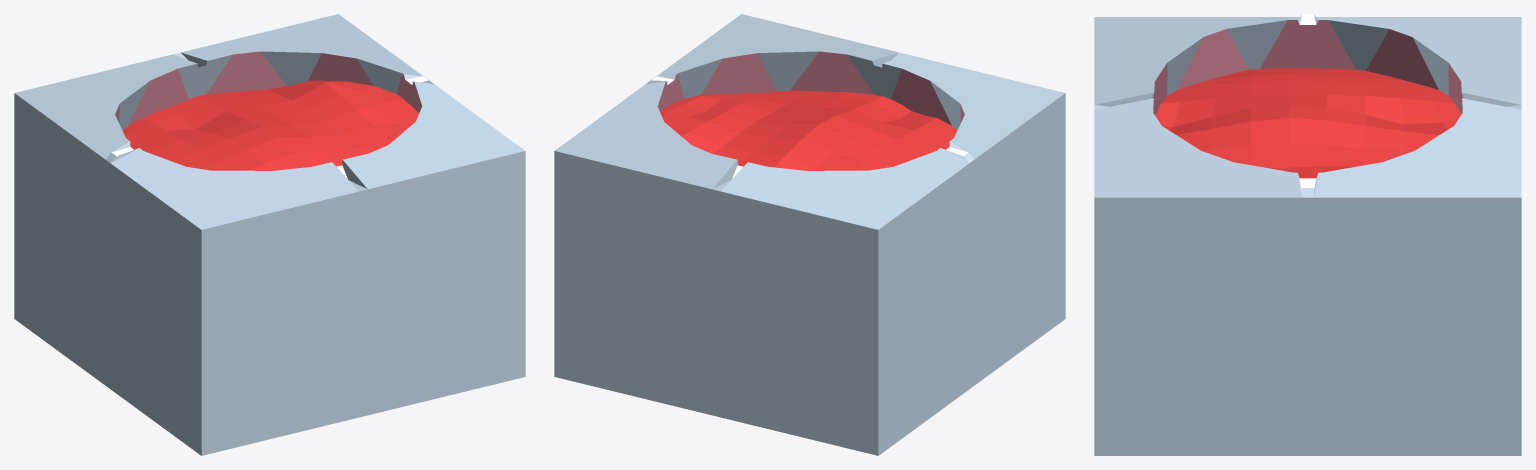
Rendered from LargePitChunk.fbx.
The picture shows the model from 3 angles, left to right: view 1: azimuth 30°, elevation 25°; view 2: azimuth 150°, elevation 25°; view 3: azimuth 270°, elevation 25°; orthographic projection. The views are drawn at different scales.
Parts seen in each view (by area): view 1: LargePit, Icosphere.001; view 2: LargePit, Icosphere.001; view 3: LargePit, Icosphere.001.
Boxes of the visible parts, <box> form: LargePit: <box>14,14,525,455</box>; Icosphere.001: <box>122,80,418,170</box>; LargePit: <box>554,14,1065,455</box>; Icosphere.001: <box>660,90,957,170</box>; LargePit: <box>1094,14,1521,455</box>; Icosphere.001: <box>1155,68,1461,178</box>.
Size of the model in its own units: 600 by 481 by 600.
